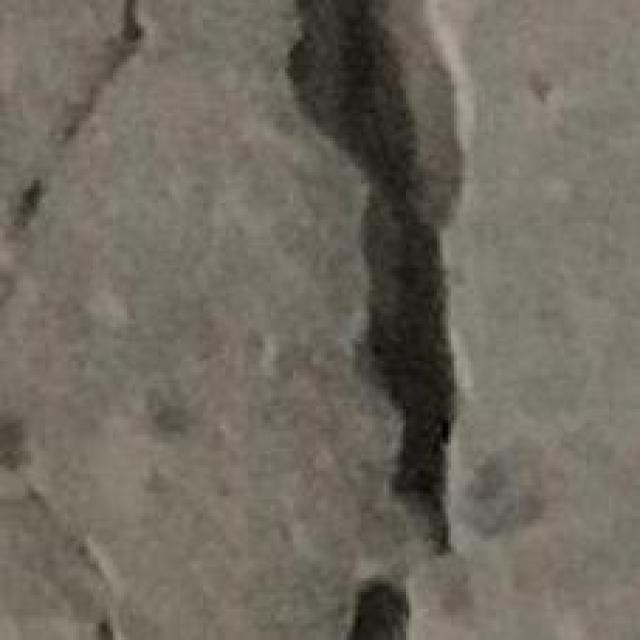Crack: (282, 0, 459, 553), (0, 0, 144, 299), (14, 468, 119, 637), (344, 572, 409, 638)
